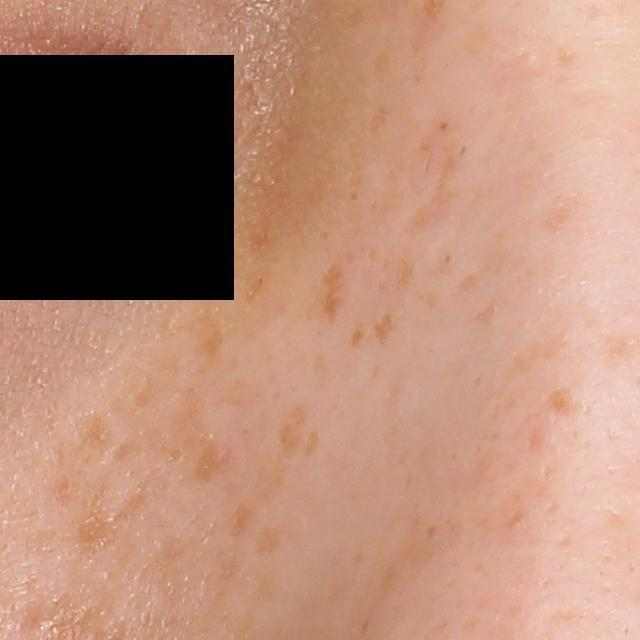melasma: (395, 138, 464, 236), (506, 328, 573, 379), (188, 302, 228, 376), (65, 504, 118, 557), (115, 468, 162, 521), (169, 383, 211, 439), (182, 441, 225, 486), (77, 409, 119, 455), (543, 387, 589, 418), (449, 268, 487, 304), (542, 197, 581, 232), (135, 373, 163, 414), (256, 523, 285, 561), (320, 260, 338, 321), (391, 255, 418, 293), (371, 311, 394, 350), (228, 503, 257, 533), (473, 297, 498, 329), (113, 435, 141, 462), (305, 419, 324, 458), (368, 105, 392, 135), (347, 323, 368, 351)
